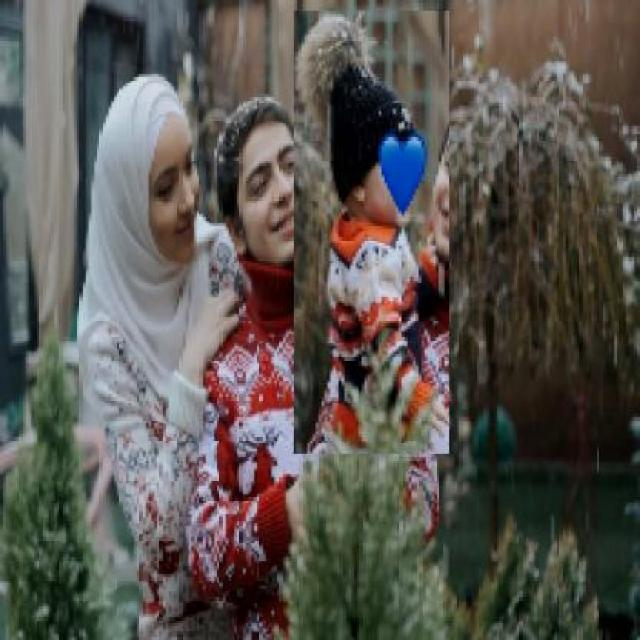child: (292, 11, 448, 455)
